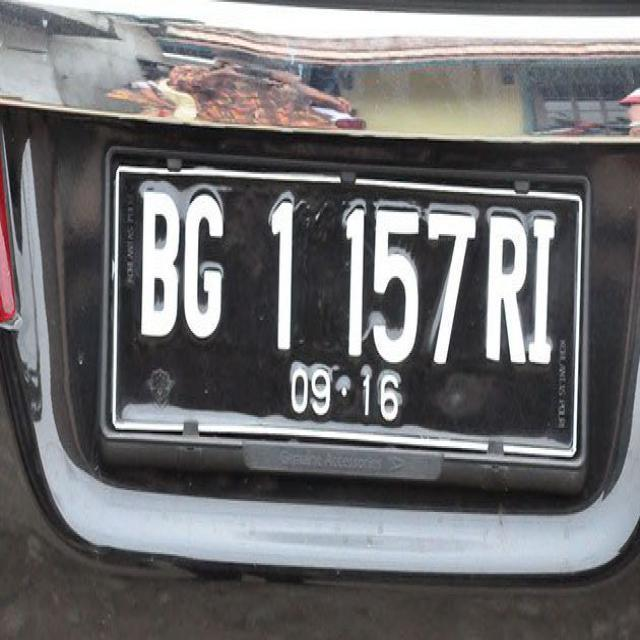clone-license-plate: (115, 165, 573, 448)
